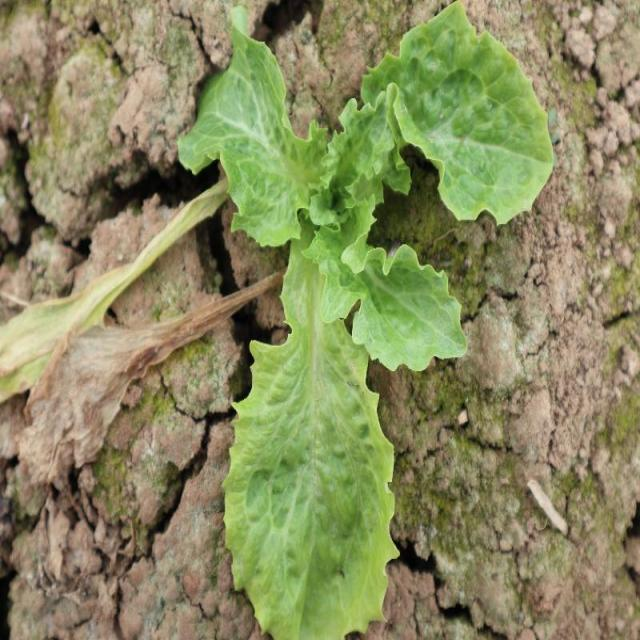crop: (180, 0, 554, 640)
